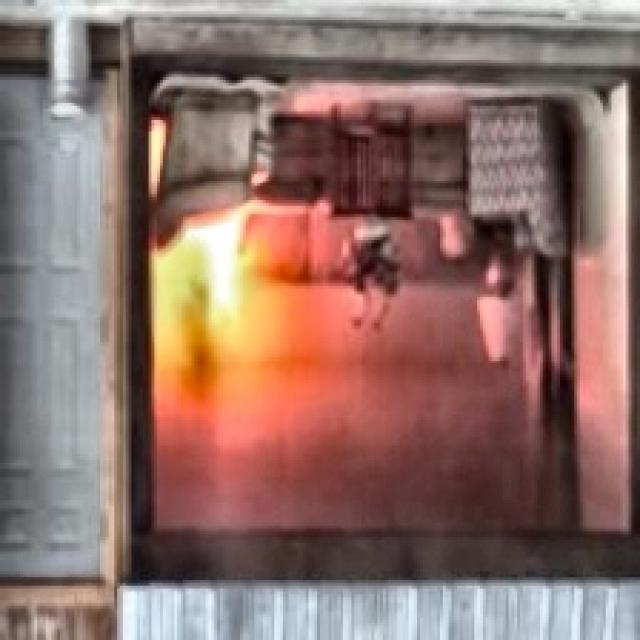fire: (157, 264, 263, 393)
